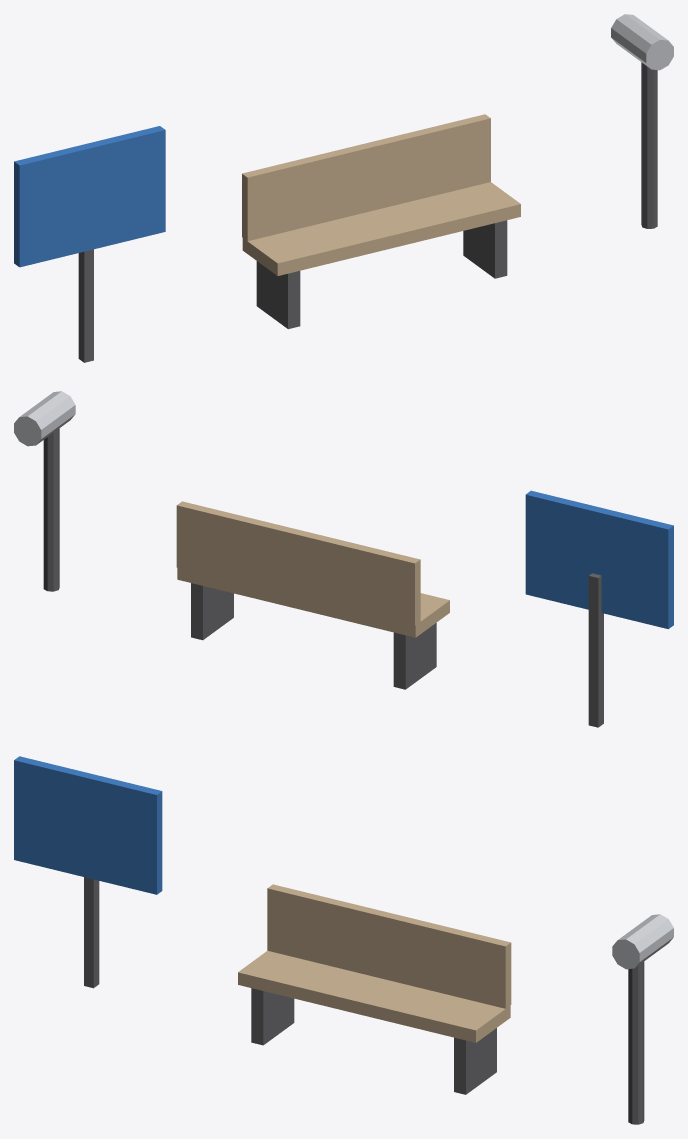
File: viewpoint.glb
3 renders of one model, top to bottom at view 1: azimuth 30°, elevation 25°; view 2: azimuth 150°, elevation 25°; view 3: azimuth 330°, elevation 25°, orthographic. The views are drawn at different scales.
Visible parts, largest first — view 1: viewpoint; view 2: viewpoint; view 3: viewpoint.
Boxes of the visible parts, x1,y1,x2,y2 form: viewpoint: [14, 14, 673, 362]; viewpoint: [14, 391, 673, 727]; viewpoint: [14, 756, 673, 1124].
Size of the model in its own units: 5.31 by 1.7 by 0.6.
